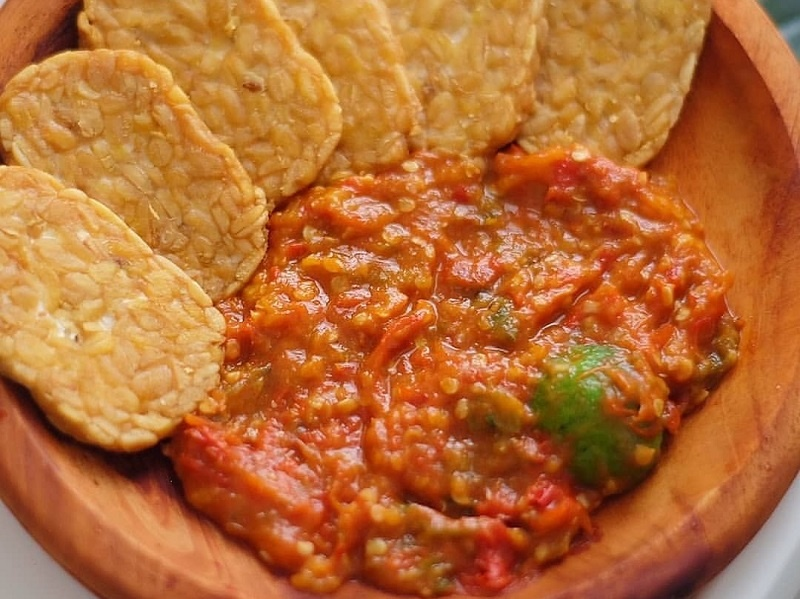sambal: (182, 149, 733, 596)
